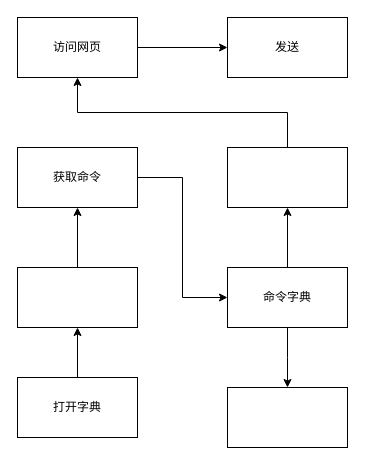
The diagram is 365 pixels wide and 465 high, and some of its shapes have lost their labels. The box of each missing label's shape, as (x1, y1, x2, y2) in pixels:
保存命令: (226, 386, 348, 448)
命令: (226, 146, 348, 208)
检查后台机器人: (16, 266, 138, 328)
